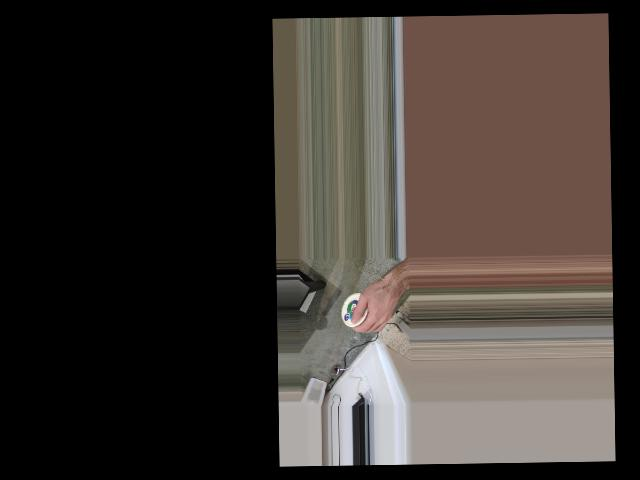cotage: (340, 292, 371, 327)
